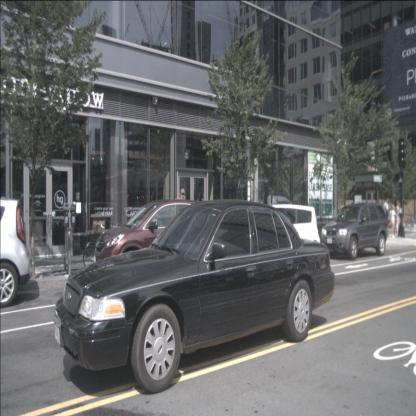human-pedestrian-adult: (391, 199, 400, 239), (382, 197, 390, 237)
vehicle-bicycle: (83, 220, 130, 274)
vehicle-car: (53, 200, 335, 392), (93, 199, 223, 293), (234, 204, 321, 274), (320, 202, 388, 260), (45, 203, 126, 248), (0, 199, 32, 308)
